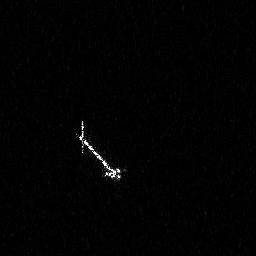ship: (74, 118, 127, 181)
